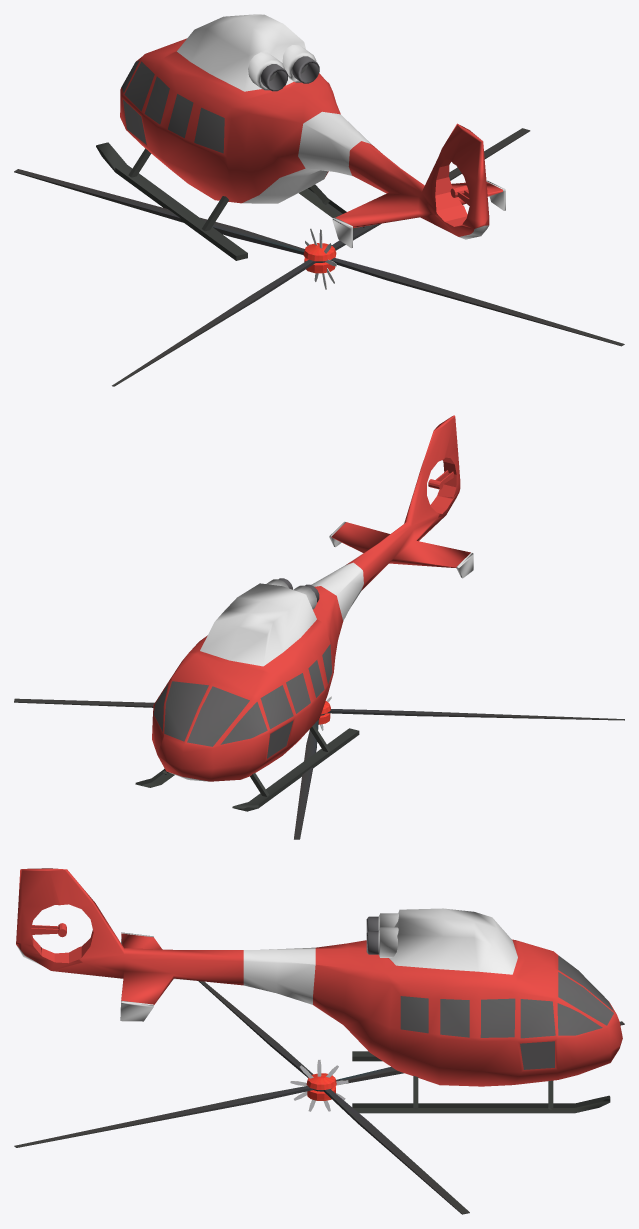
The model's file is helicopter.gltf.
The picture shows the model from 3 angles, top to bottom: view 1: azimuth 30°, elevation 25°; view 2: azimuth 150°, elevation 25°; view 3: azimuth 270°, elevation 25°; orthographic projection. The views are drawn at different scales.
Parts seen in each view (by area): view 1: paint, body, rotor; view 2: paint, body, rotor; view 3: paint, body, rotor, tail.
Part boxes in pixels (box(x1,y1,x2,y2)): paint: box(120, 38, 502, 236); body: box(96, 14, 505, 260); rotor: box(14, 128, 624, 386); paint: box(152, 415, 470, 781); body: box(135, 521, 473, 811); rotor: box(14, 698, 624, 839); paint: box(16, 868, 622, 1086); body: box(16, 908, 613, 1113); rotor: box(14, 981, 624, 1214); tail: box(290, 1059, 348, 1111).
Bounding box in the file's own units: 8.46 × 3.7 × 8.46.
Materials: 2 (1 with a texture image).
